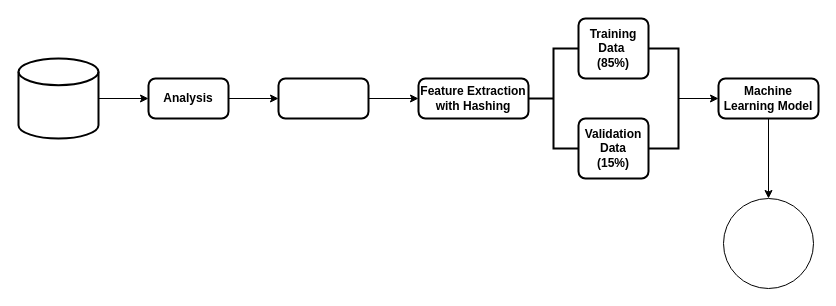
The diagram is 836 pixels wide and 306 high, and some of its shapes have lost their labels. The centre of each missing label's shape, as x and y in pixels:
"Data" belongs at point 58,98.
"Getting the Desired Model" belongs at point 768,243.
"Preprocessing" belongs at point 323,98.
